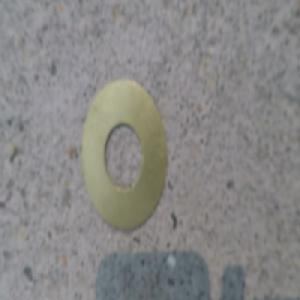Washer: (80, 80, 165, 223)
